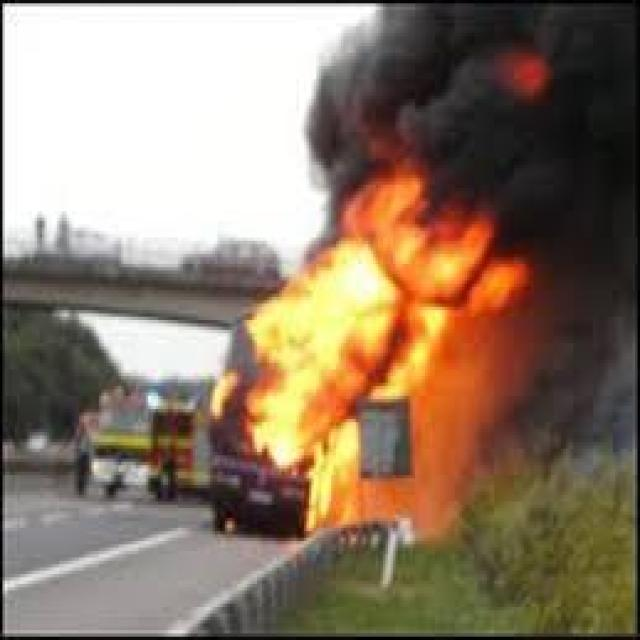fire: (210, 120, 528, 527)
